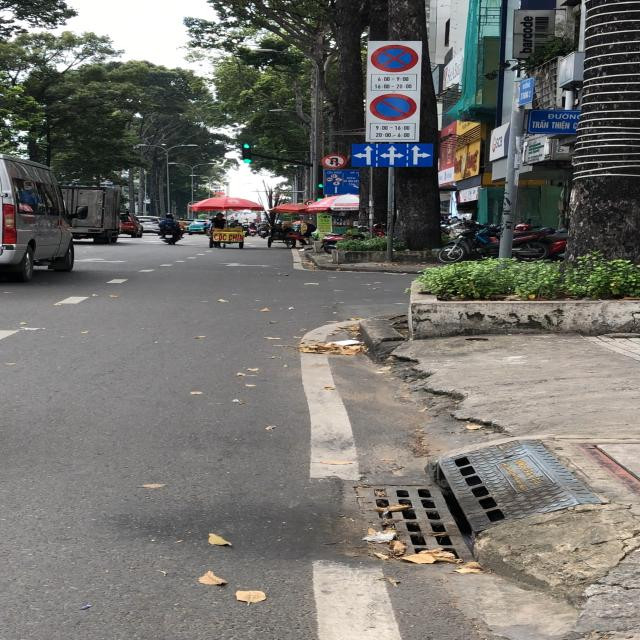Bien bao cam do xe: (368, 91, 423, 124)
Bien bao cam dung xe va do xe: (366, 44, 422, 76)
Bien bao cam quay dau xe: (319, 152, 348, 170)
